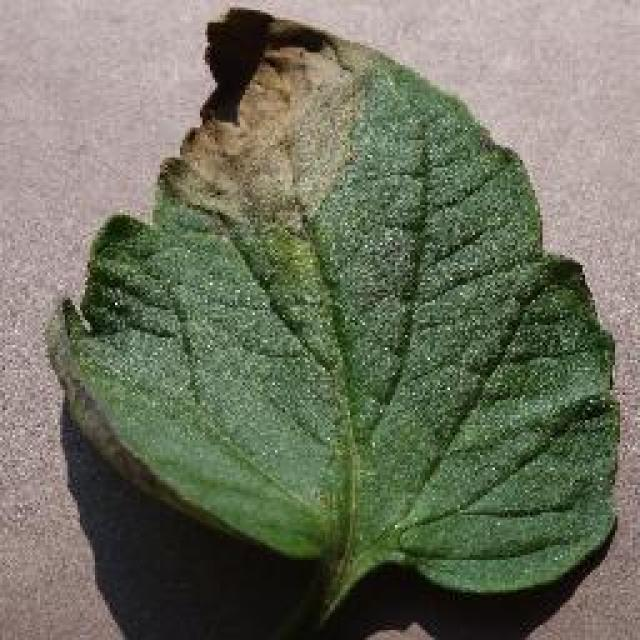Tomato___Late_blight: (45, 8, 620, 638)
